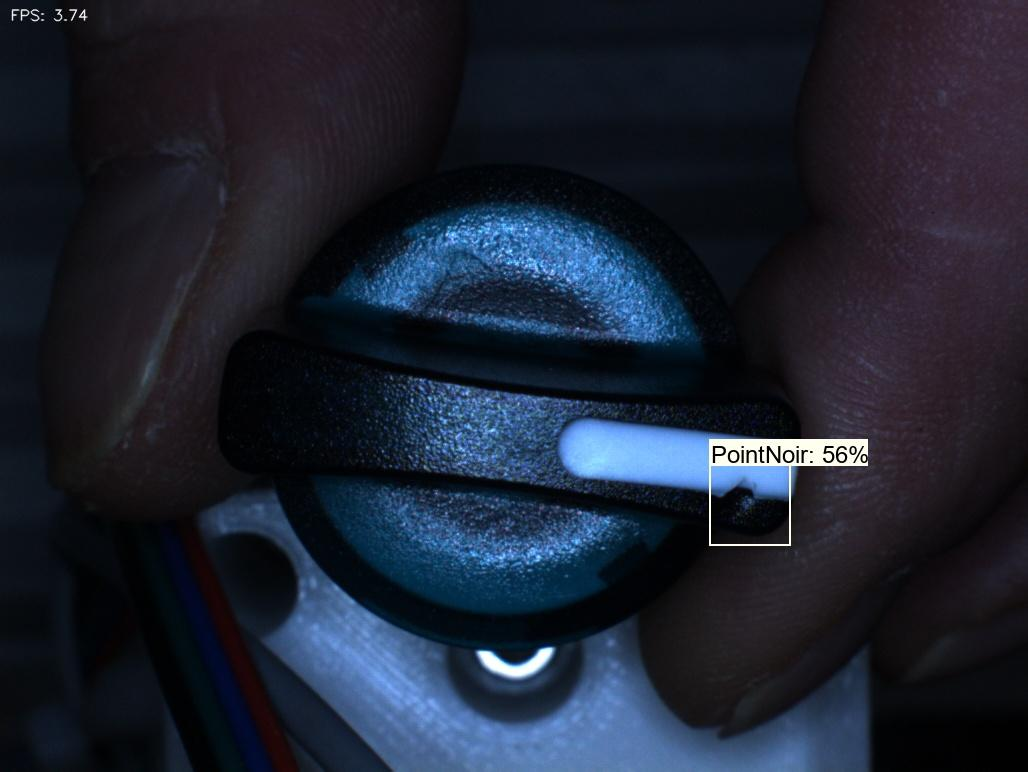Choc: (690, 452, 789, 555)
